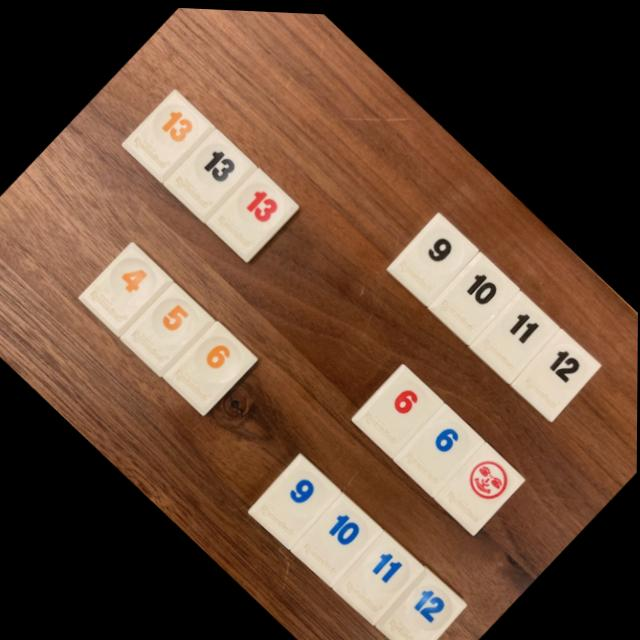black_10: (428, 247, 519, 340)
black_11: (468, 286, 559, 379)
black_12: (511, 323, 600, 416)
black_13: (163, 127, 255, 219)
black_9: (386, 209, 478, 301)
blue_10: (291, 490, 383, 584)
blue_11: (333, 528, 424, 621)
blue_12: (375, 563, 466, 640)
blue_6: (393, 399, 484, 492)
blue_9: (248, 451, 341, 546)
joker: (434, 438, 524, 531)
orange_13: (122, 88, 215, 181)
orange_4: (78, 241, 172, 335)
orange_5: (120, 281, 214, 374)
orange_6: (163, 319, 257, 413)
red_13: (206, 165, 299, 259)
red_6: (352, 360, 443, 454)
